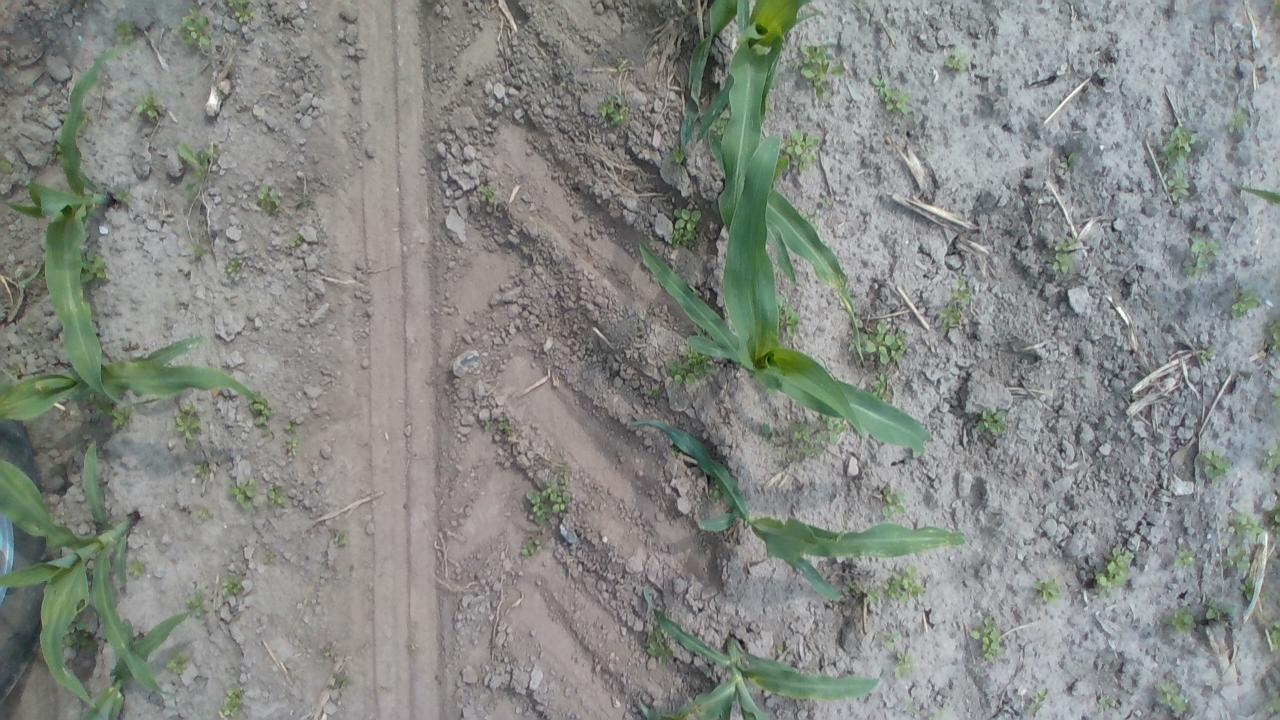Maize: (640, 131, 932, 456), (630, 418, 973, 603), (689, 0, 864, 361), (0, 439, 175, 712), (4, 34, 127, 401), (636, 580, 884, 720), (0, 332, 270, 426), (64, 607, 197, 720)
Weeds: (760, 415, 846, 460), (522, 468, 572, 527), (797, 43, 845, 102), (173, 140, 219, 200), (668, 346, 716, 390), (860, 322, 906, 366), (1095, 546, 1135, 594), (969, 614, 1006, 663), (881, 566, 925, 606), (1158, 126, 1199, 168), (870, 76, 910, 118), (175, 8, 214, 50), (1182, 236, 1218, 278), (668, 207, 703, 249), (1156, 679, 1190, 720), (1235, 178, 1280, 208), (786, 131, 820, 170), (1050, 236, 1082, 276), (1228, 509, 1264, 544), (1198, 446, 1232, 483), (174, 402, 204, 441), (595, 96, 630, 128), (62, 618, 96, 648), (974, 408, 1010, 436), (78, 249, 108, 282), (229, 479, 259, 512), (1032, 576, 1064, 606), (136, 90, 164, 124), (644, 630, 670, 666), (248, 394, 272, 433), (254, 184, 284, 215), (1224, 542, 1254, 573), (218, 685, 244, 720), (1230, 289, 1260, 318), (1164, 605, 1194, 634), (880, 488, 908, 519), (871, 368, 896, 402), (950, 278, 974, 312), (780, 303, 804, 337), (1165, 172, 1191, 202), (224, 0, 256, 23), (165, 648, 192, 674), (112, 19, 137, 45), (1257, 444, 1280, 472), (484, 419, 516, 439), (1024, 689, 1046, 718), (1263, 320, 1280, 357), (110, 404, 134, 430), (1203, 600, 1234, 620), (1170, 546, 1196, 569), (892, 652, 915, 678), (1240, 577, 1266, 600), (1262, 620, 1280, 652), (220, 574, 246, 596), (941, 302, 963, 328), (851, 584, 881, 603), (1228, 109, 1250, 134), (266, 484, 288, 509), (1262, 690, 1280, 720), (942, 51, 966, 73), (45, 134, 65, 160), (714, 106, 730, 138), (520, 536, 543, 558), (223, 256, 246, 278), (186, 590, 206, 615), (126, 558, 146, 581), (708, 477, 726, 502), (330, 669, 352, 689), (93, 397, 111, 420), (668, 145, 687, 166), (190, 242, 212, 260), (330, 528, 348, 550), (78, 108, 95, 130), (282, 436, 300, 456), (1060, 152, 1078, 171), (263, 548, 278, 570), (479, 184, 495, 204), (1198, 348, 1215, 366), (882, 631, 900, 648), (804, 207, 820, 226), (193, 461, 210, 478), (0, 154, 13, 175), (282, 418, 299, 434), (1098, 696, 1116, 710), (1272, 510, 1280, 541), (288, 234, 304, 249), (903, 700, 918, 715), (116, 187, 130, 203), (773, 643, 787, 659), (196, 505, 213, 518), (616, 57, 630, 72), (646, 386, 662, 399)
